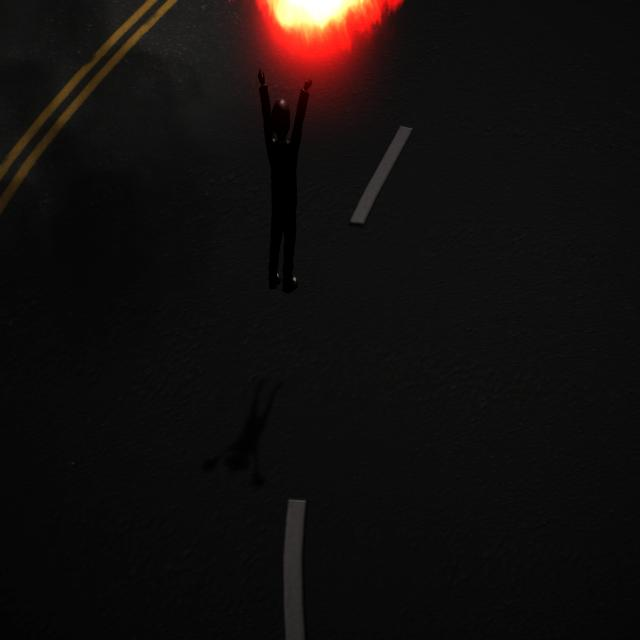Human: (253, 64, 314, 291)
